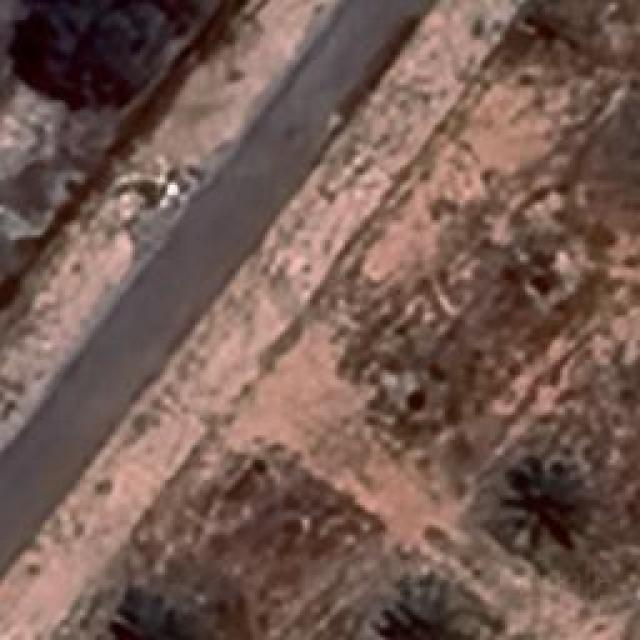PalmTree: (502, 450, 590, 555), (102, 589, 207, 640), (396, 582, 486, 640)
